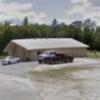cars: (45, 52, 74, 64), (38, 50, 56, 64), (0, 55, 20, 66)
